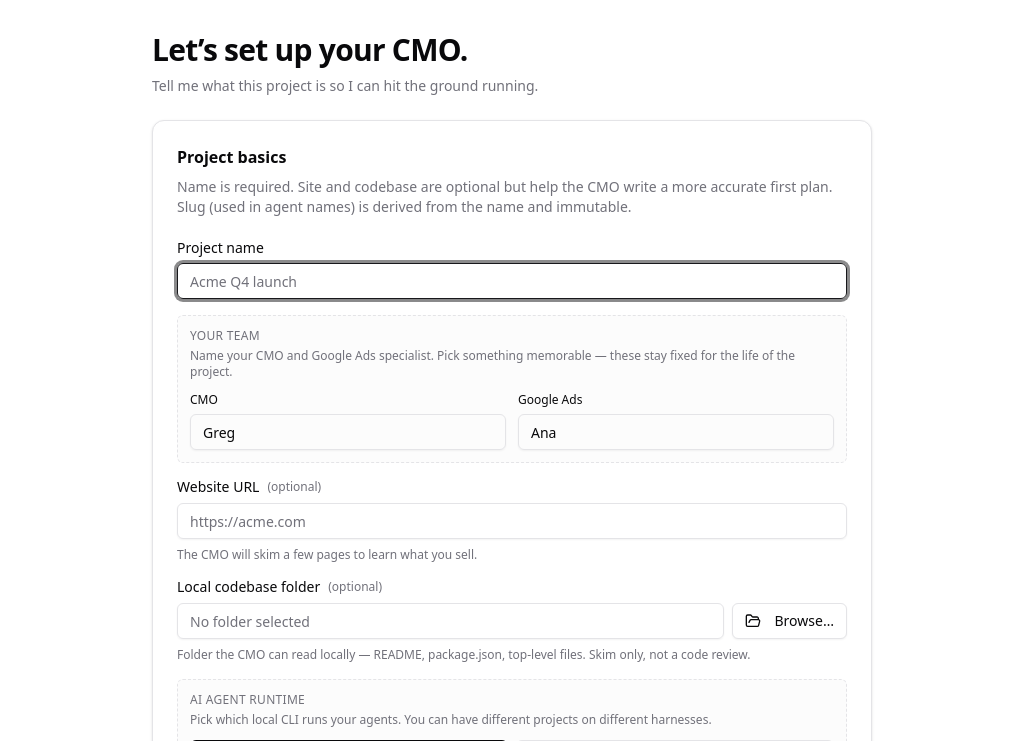
Scenario: OnboardingFlow — NameStep (default step) › renders an inline error alert when the server action returns ok=false
This screenshot has width=1024, height=741.
Step 1. Type "x" into the field labelled "Project name" → (512, 281), box x1=177 y1=263 x2=847 y2=299
(page scrolled)
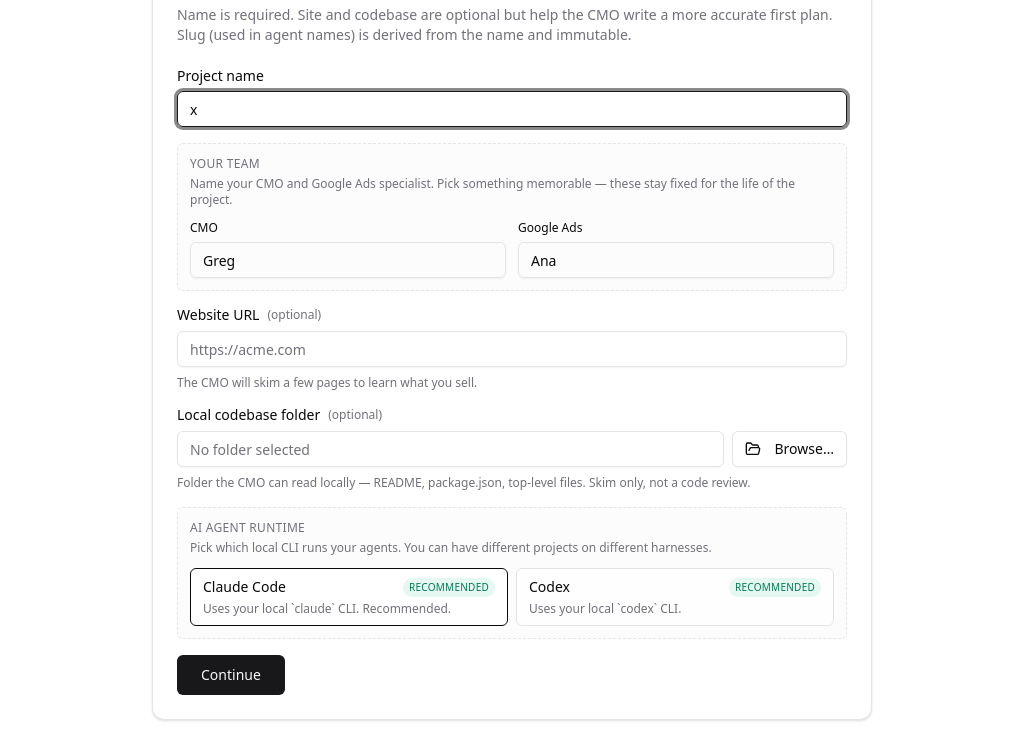
Step 2. Click the button "Continue" → (231, 675), box x1=177 y1=655 x2=285 y2=695
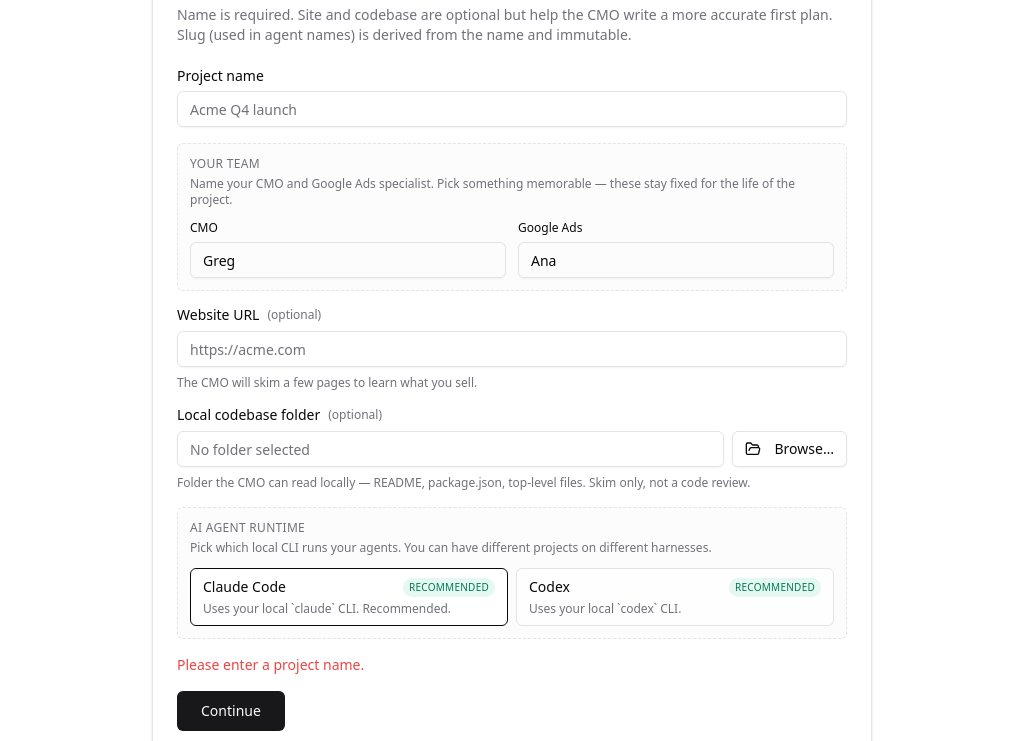
Check: the message reads "Please enter a project name.", box x1=177 y1=655 x2=364 y2=674
